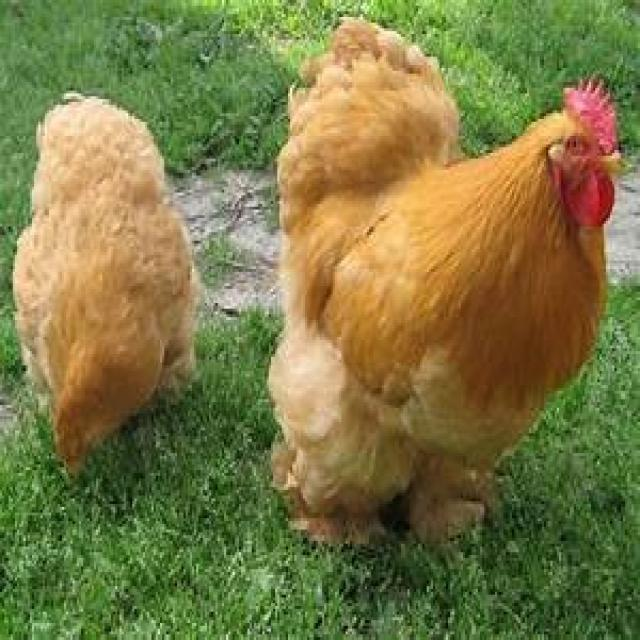chicken: (265, 14, 625, 550), (11, 88, 198, 478)
